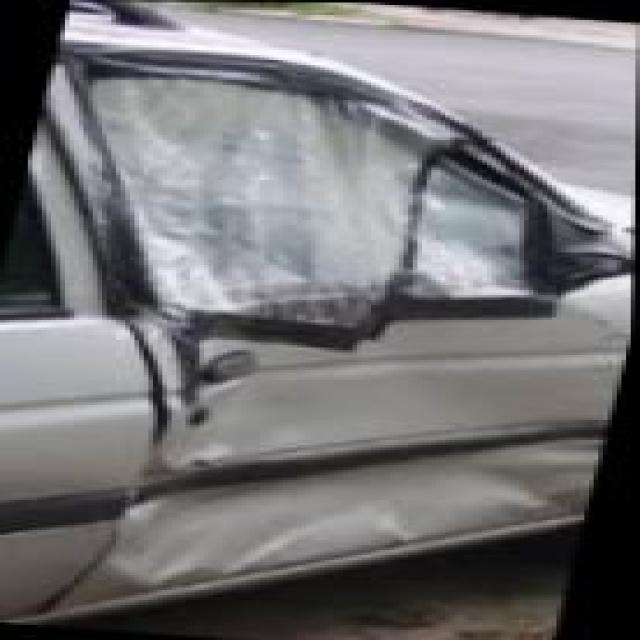replaceable: (39, 64, 640, 567)
